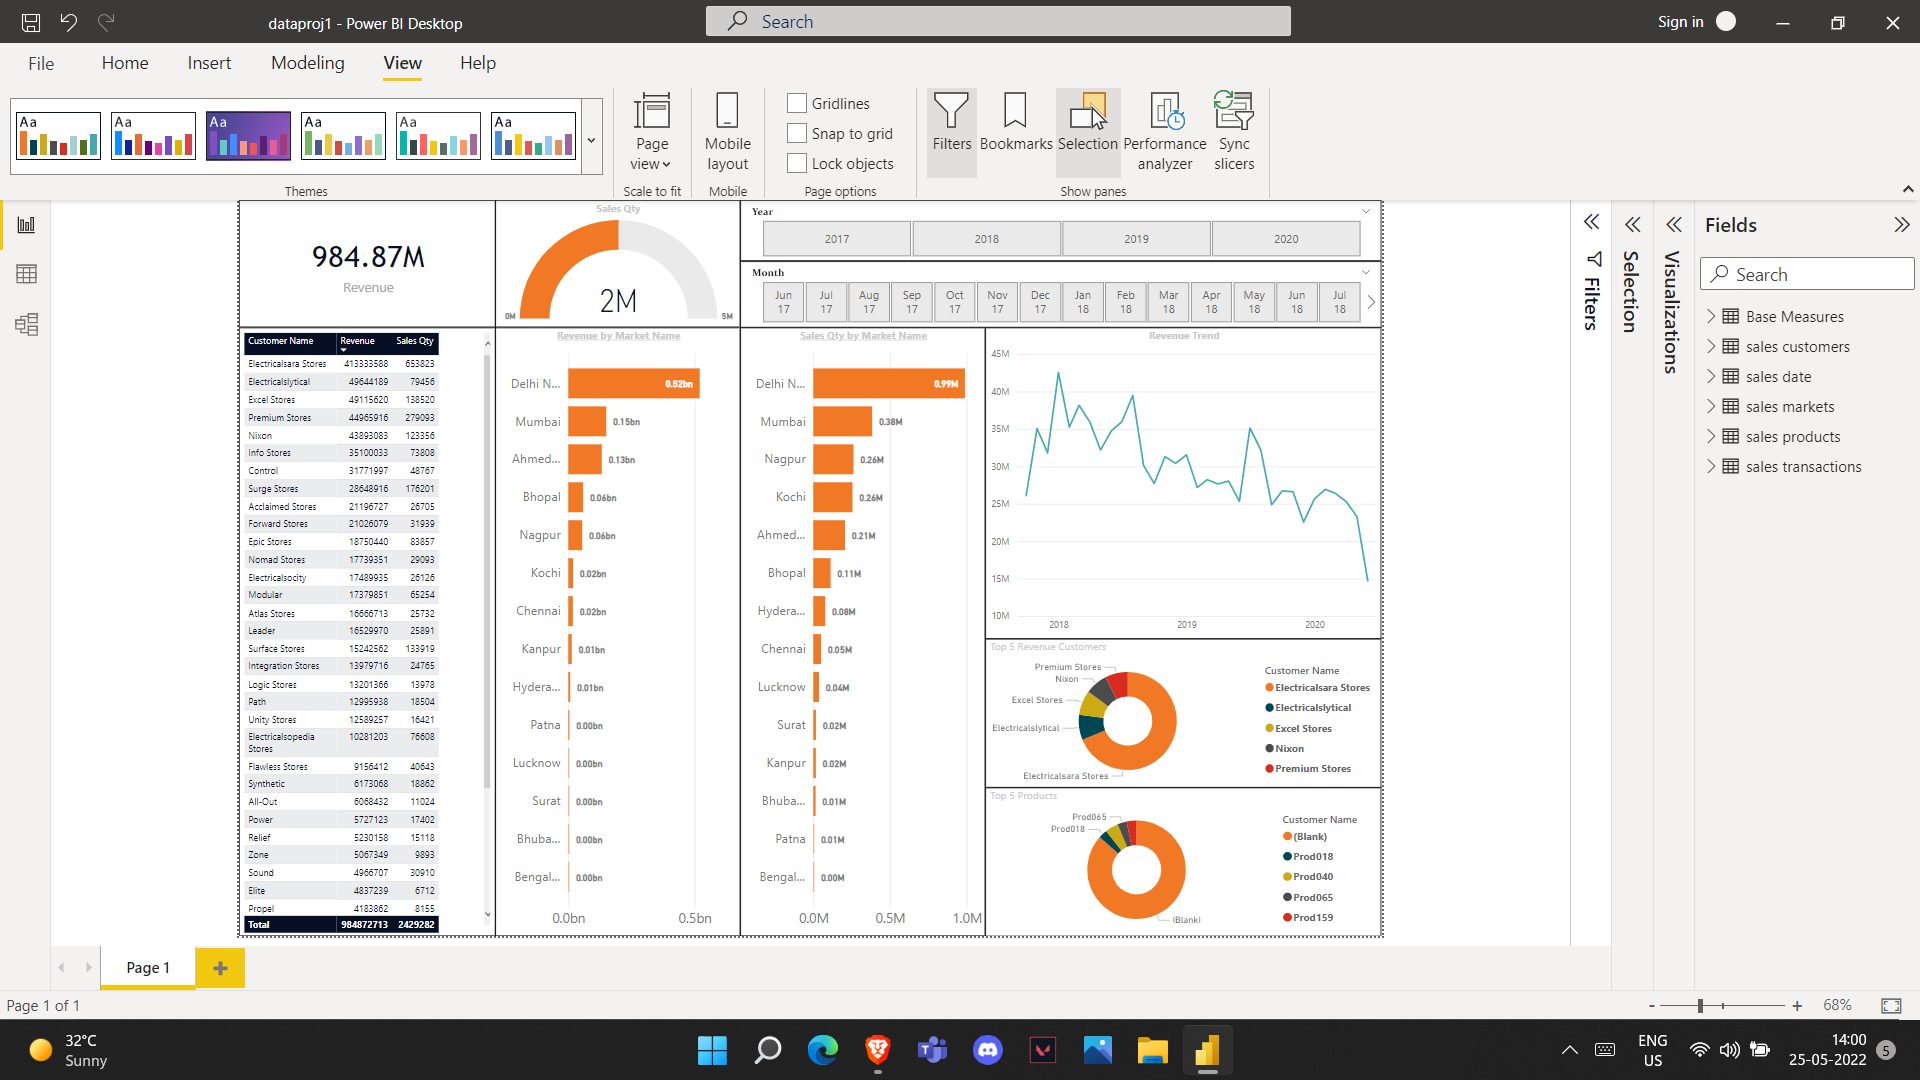

The page's visual inventory and layout, read from the dashboard file:
{"tool":"powerbi","page":{"name":"Page 1","canvas":[1350,870],"ordinal":0},"visuals":[{"type":"card","fields":{"Values":["Base Measures.Revenue"]},"box":[0,0,302.8,150.7],"z":0},{"type":"textbox","box":[475.2,0,302.1,150],"z":1000},{"type":"gauge","fields":{"Y":["Base Measures.Sales Qty"]},"box":[302.8,0,289.5,150.7],"z":2000},{"type":"pivotTable","fields":{"Values":["Base Measures.Revenue","Base Measures.Sales Qty"],"Rows":["sales customers.custmer_name"]},"box":[0,150.7,302.8,719.3],"z":3000},{"type":"slicer","fields":{"Values":["sales date.year"]},"box":[592.3,0,757.7,72.4],"z":4000},{"type":"barChart","title":"Revenue by Market Name","fields":{"Y":["Base Measures.Revenue"],"Category":["sales markets.markets_name"]},"box":[302.8,150.7,289.5,719.3],"z":5000},{"type":"barChart","title":"Sales Qty by Market Name","fields":{"Y":["Base Measures.Sales Qty"],"Category":["sales markets.markets_name"]},"box":[592.3,150.7,289.5,719.3],"z":6000},{"type":"slicer","fields":{"Values":["sales date.cy_date"]},"box":[592.3,72.4,757.7,78.3],"z":7000},{"type":"donutChart","title":"Top 5 Revenue Customers","fields":{"Y":["Base Measures.Revenue"],"Series":["sales customers.custmer_name"]},"box":[881.8,518.5,468.2,175.8],"z":8000},{"type":"donutChart","title":"Top 5 Products","fields":{"Y":["Base Measures.Revenue"],"Series":["sales products.product_code"]},"box":[881.8,694.2,468.2,175.8],"z":9000},{"type":"lineChart","title":"Revenue Trend","fields":{"Y":["Base Measures.Revenue"],"Category":["sales date.cy_date"]},"box":[881.8,150.7,468.2,367.8],"z":10000}]}

Visuals, with their boxes on the page's 1350x870 design canvas (x1, y1, x2, y2). These are canvas units, not pixel positions in the 1920x1080 screenshot, which may show the page scaled, cropped or inside an application window:
card - Base Measures.Revenue: <box>0,0,303,151</box>
textbox: <box>475,0,777,150</box>
gauge - Base Measures.Sales Qty: <box>303,0,592,151</box>
pivotTable - Base Measures.Revenue x Base Measures.Sales Qty: <box>0,151,303,870</box>
slicer - sales date.year: <box>592,0,1350,72</box>
"Revenue by Market Name" barChart: <box>303,151,592,870</box>
"Sales Qty by Market Name" barChart: <box>592,151,882,870</box>
slicer - sales date.cy_date: <box>592,72,1350,151</box>
"Top 5 Revenue Customers" donutChart: <box>882,518,1350,694</box>
"Top 5 Products" donutChart: <box>882,694,1350,870</box>
"Revenue Trend" lineChart: <box>882,151,1350,518</box>
